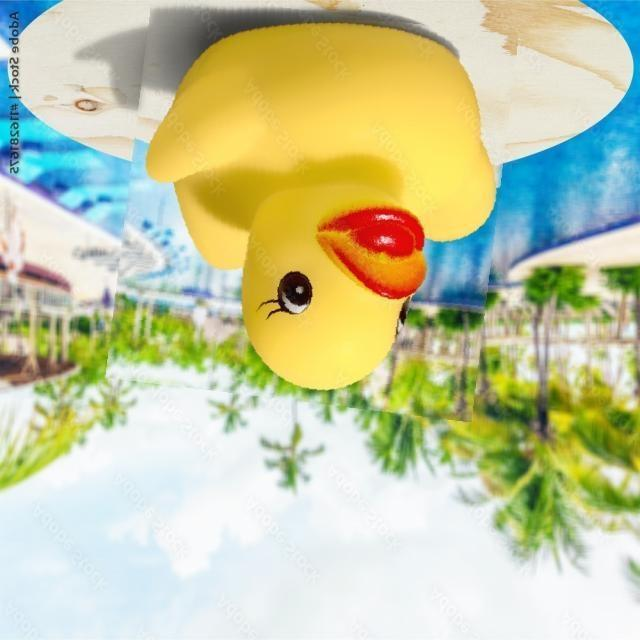rubber-duck: (146, 22, 494, 387)
